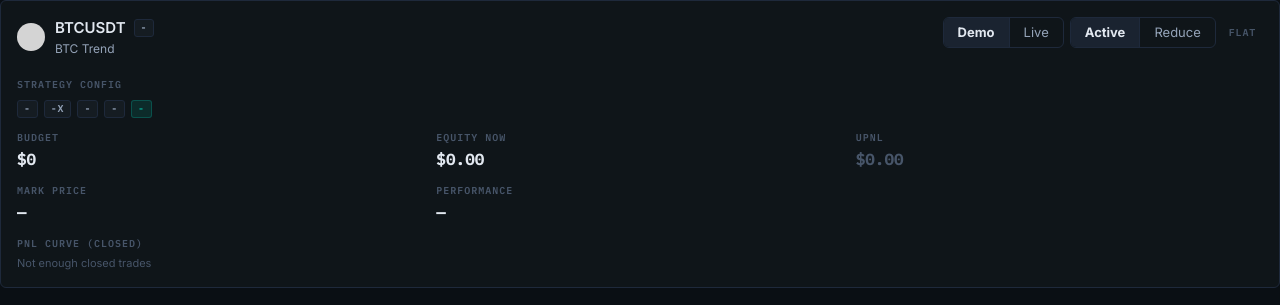
Test: StrategyCard split controls › disables all control buttons while a request is pending (no double-submit)
The width and height of the screenshot is (1280, 305).
Click the button "Reduce" at (1177, 32), box [1139, 18, 1215, 47]
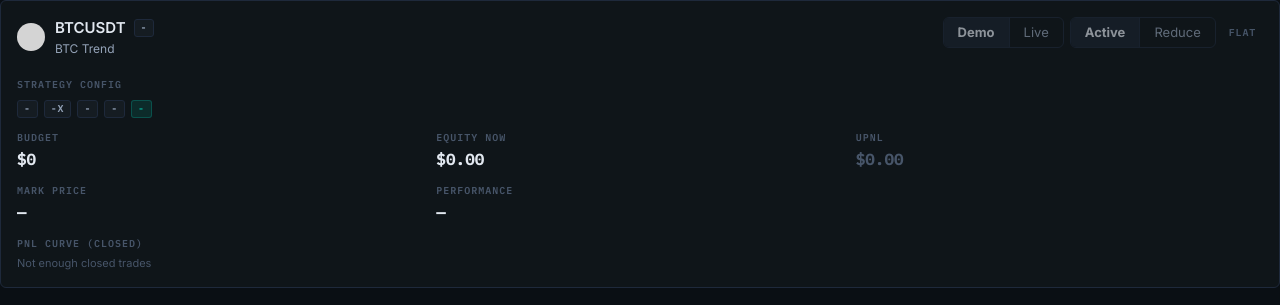
Now the button "Reduce" is disabled, box [1139, 18, 1215, 47]
Now the button "Demo" is disabled, box [944, 18, 1009, 47]
Now the button "Live" is disabled
# A second click while pending must not enqueue another request.
Click the button "Live" at (1036, 32), box [1009, 18, 1063, 47]
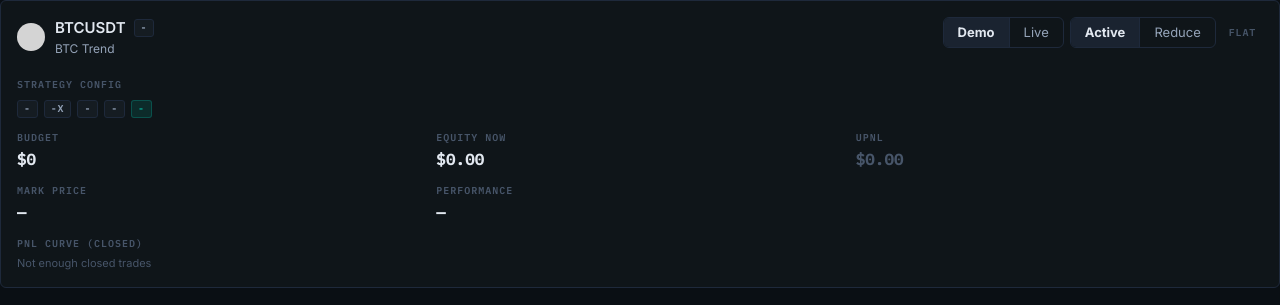
Now the button "Reduce" is enabled, box [1139, 18, 1215, 47]
